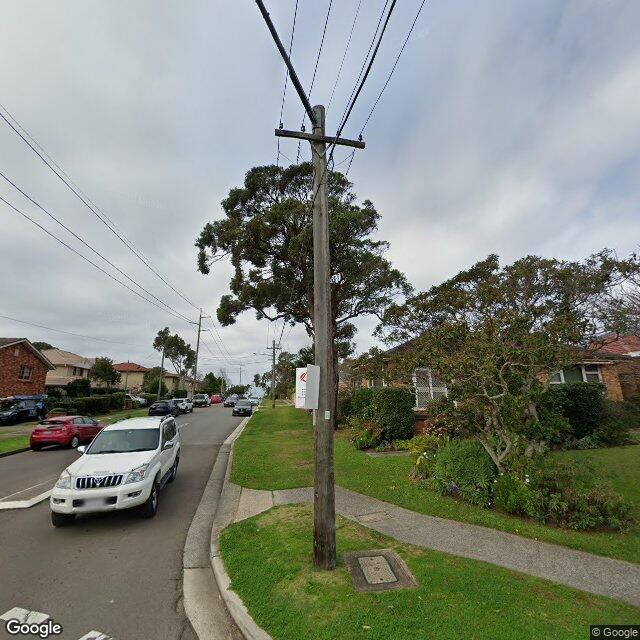HV-transmission: (189, 316, 210, 332)
crossarm: (274, 128, 366, 152), (266, 347, 282, 350)
timber-pole: (309, 104, 336, 570), (193, 308, 202, 394), (273, 340, 275, 409), (239, 364, 242, 387)
